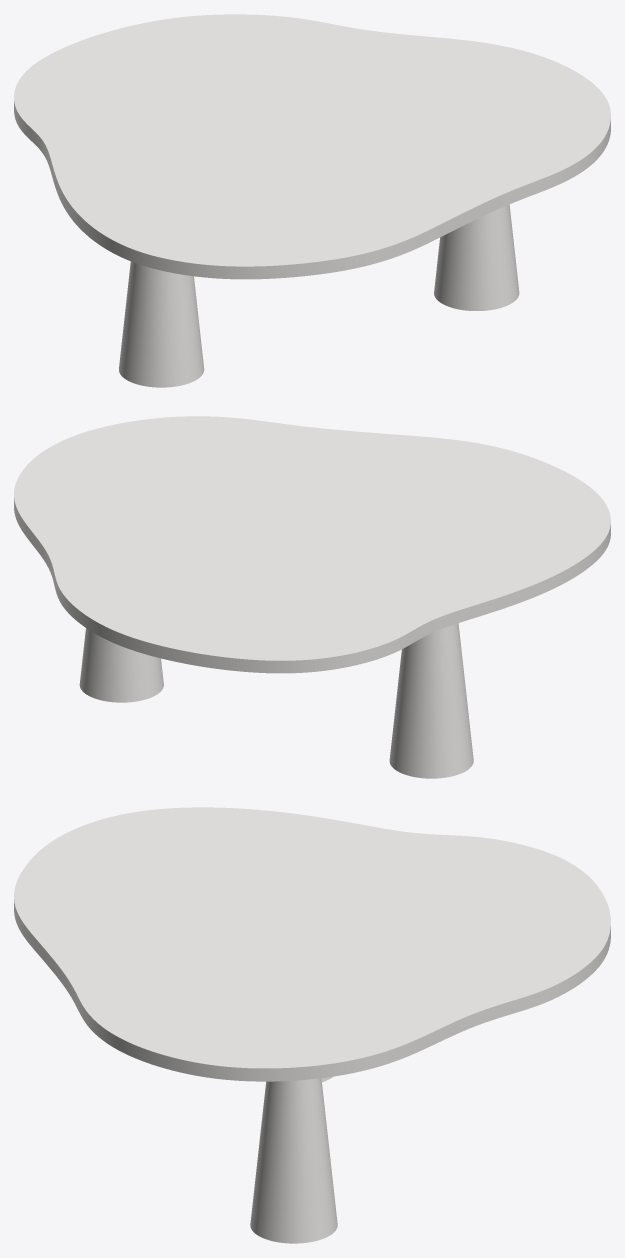
File: purewhite_topone_standard_pebble.glb
3 views of the same model, one above another, from view 1: azimuth 30°, elevation 25°; view 2: azimuth 150°, elevation 25°; view 3: azimuth 270°, elevation 25° (orthographic). The views are drawn at different scales.
Parts seen in each view (by area): view 1: standard_topone, pebble; view 2: standard_topone, pebble; view 3: standard_topone, pebble.
Part boxes in pixels (left/top/right/bottom): standard_topone: left=14, top=14, right=610, bottom=279; pebble: left=119, top=204, right=519, bottom=387; standard_topone: left=14, top=416, right=610, bottom=673; pebble: left=79, top=623, right=473, bottom=778; standard_topone: left=14, top=807, right=610, bottom=1081; pebble: left=250, top=1076, right=337, bottom=1243.
Bounding box in the file's own units: 6.83 × 2.5 × 6.6.
Materials: 1 (1 with a texture image).
